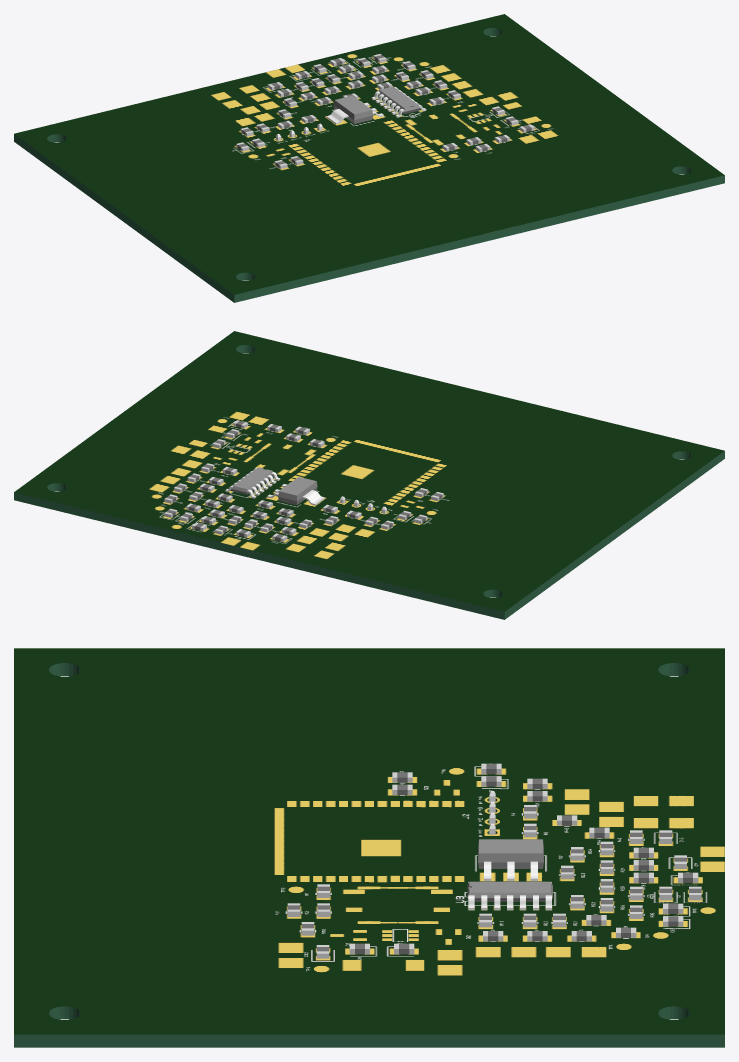
The model's file is board.gltf.
3 renders of one model, top to bottom at view 1: azimuth 30°, elevation 25°; view 2: azimuth 150°, elevation 25°; view 3: azimuth 270°, elevation 25°, orthographic. The views are drawn at different scales.
Visible parts, largest first — view 1: Box0, U2, U3; view 2: Box0, U2, U3; view 3: Box0, U2, U3.
Boxes of the visible parts, x1,y1,x2,y2 form: Box0: [14, 14, 724, 302]; U2: [326, 95, 383, 124]; U3: [371, 86, 426, 117]; Box0: [14, 331, 724, 619]; U2: [267, 477, 324, 505]; U3: [225, 467, 280, 498]; Box0: [14, 648, 724, 1047]; U2: [478, 839, 543, 880]; U3: [467, 881, 552, 910].
Size of the model in its own units: 90 by 11.46 by 70.
Materials: 8 (2 with a texture image).
